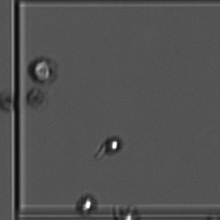Dead Cell: (26, 53, 57, 84), (24, 84, 49, 109)
Living Cell: (91, 129, 127, 159), (78, 193, 99, 212)
